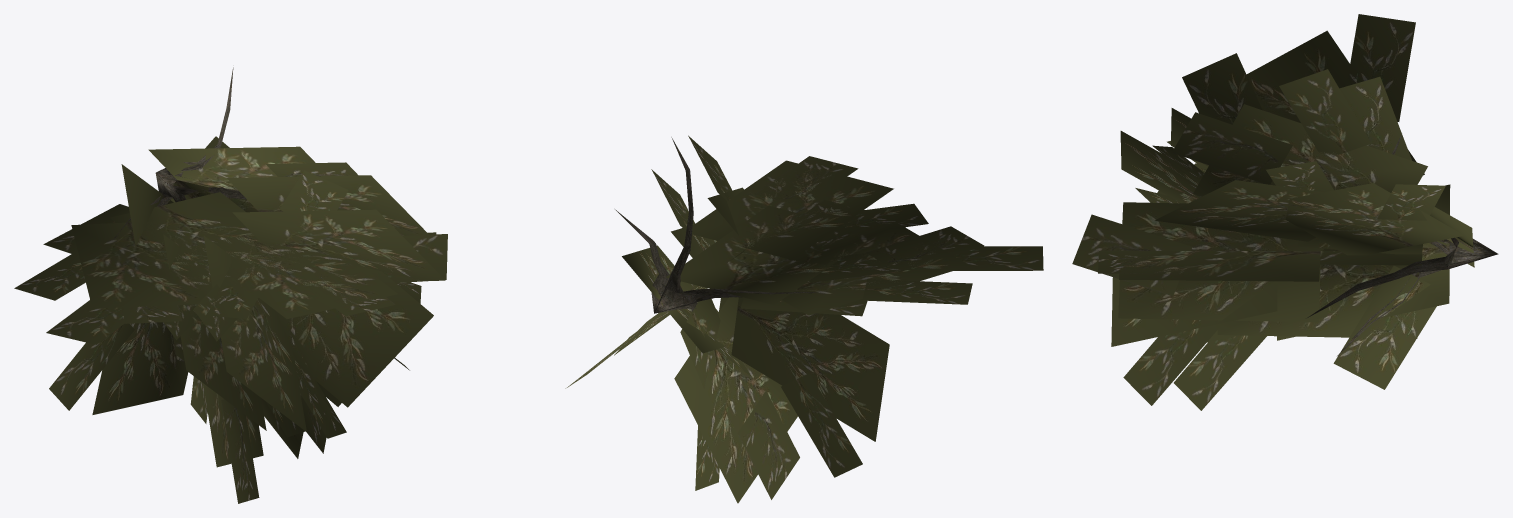
Rendered from brush_toujanebigbushy.glb.
The picture shows the model from 3 angles, left to right: view 1: azimuth 30°, elevation 25°; view 2: azimuth 150°, elevation 25°; view 3: azimuth 270°, elevation 25°; orthographic projection.
Size of the model in its own units: 102 by 96.57 by 79.59.
Materials: 1 (1 with a texture image).
